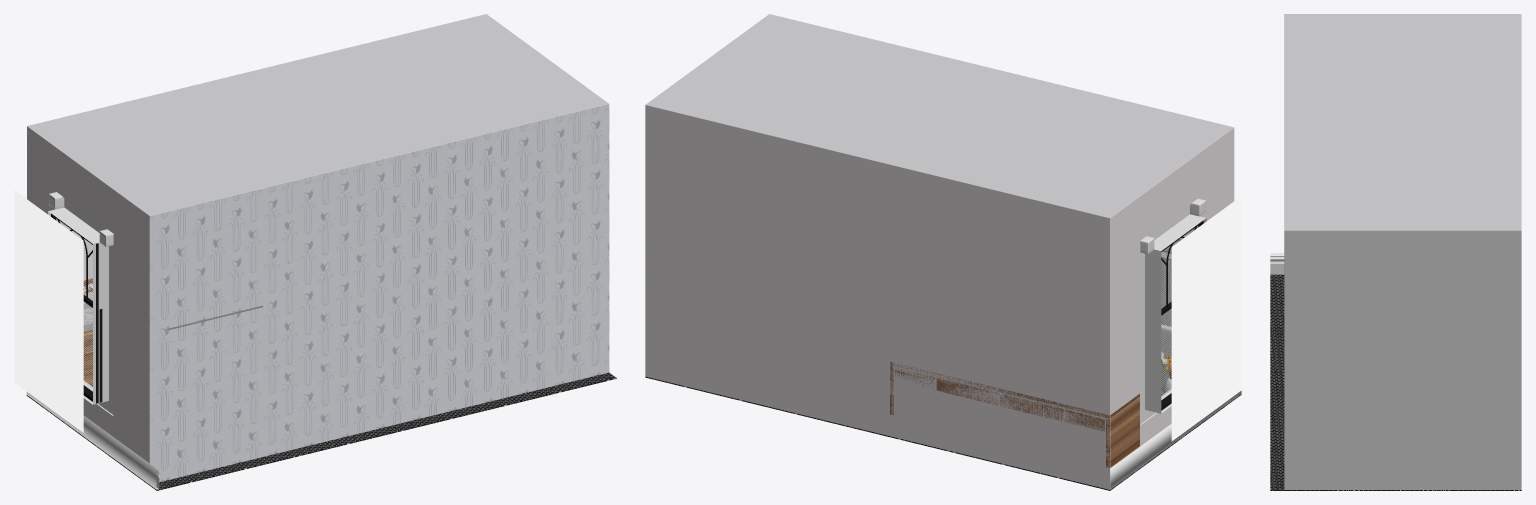
The model's file is contemporary-bathroom.glb.
3 renders of one model, left to right at view 1: azimuth 30°, elevation 25°; view 2: azimuth 150°, elevation 25°; view 3: azimuth 270°, elevation 25°, orthographic. The views are drawn at different scales.
Parts seen in each view (by area): view 1: Wallpaper, Ceiling, GreyWall, Light_0001, Floor, WhiteWood_0006, WhiteWood_0007, Blinds_0001, WindowFrame_0002; view 2: GreyWall, Ceiling, Light_0001, WhiteWood_0006, Wood_0012, WhiteWood_0007, Floor, Wood_0015, Wood_0003, Blinds_0001, Wood_0006, Wallpaper; view 3: Ceiling, Floor, WhiteWood_0007.
Boxes of the visible parts, x1,y1,x2,y2 form: Wallpaper: (149,104,609,482); Ceiling: (27,14,608,215); GreyWall: (27,126,149,463); Light_0001: (14,190,83,432); Floor: (26,372,616,490); WhiteWood_0006: (48,198,113,415); WhiteWood_0007: (26,392,159,489); Blinds_0001: (62,223,92,388); WindowFrame_0002: (51,213,98,403); GreyWall: (645,105,1234,489); Ceiling: (645,14,1233,217); Light_0001: (1171,196,1241,441); WhiteWood_0006: (1140,205,1206,425); Wood_0012: (890,366,1139,467); WhiteWood_0007: (1110,390,1241,489); Floor: (645,376,1241,490); Wood_0015: (890,362,1139,418); Wood_0003: (1000,394,1063,421); Blinds_0001: (1161,230,1192,396); Wood_0006: (936,378,999,404); Wallpaper: (1161,233,1189,326); Ceiling: (1284,14,1521,489); Floor: (1270,274,1521,490); WhiteWood_0007: (1270,253,1284,274).
Size of the model in its own units: 5.4 by 2.8 by 2.45.
Materials: 12 (12 with a texture image).
